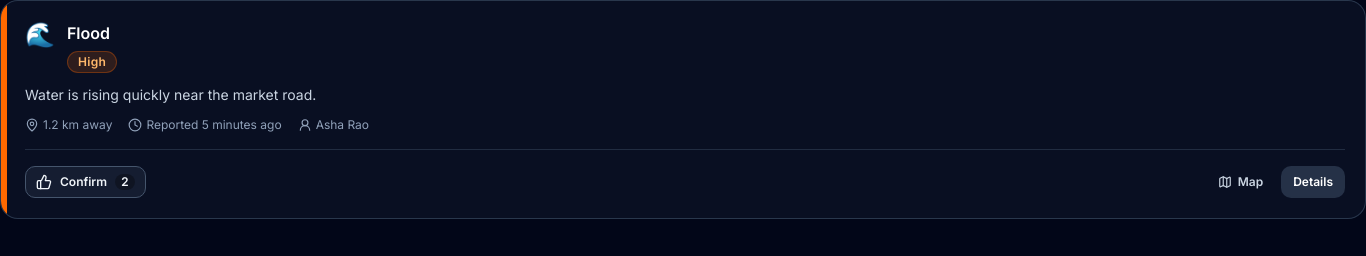
it: IncidentCard › rolls back and explains when the upvote fails
The width and height of the screenshot is (1366, 256).
Click the button with aria-label "Confirm this incident".
click(85, 182)  # box [25,166,146,198]
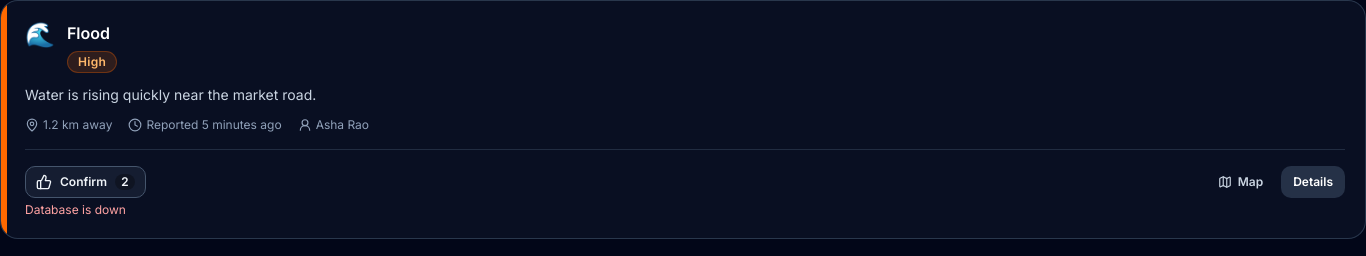
Expected: the text with test id "upvote-count" reads "2", [121,174,129,189]
Result: the message reads "Database is down" at [25,202,126,217]
